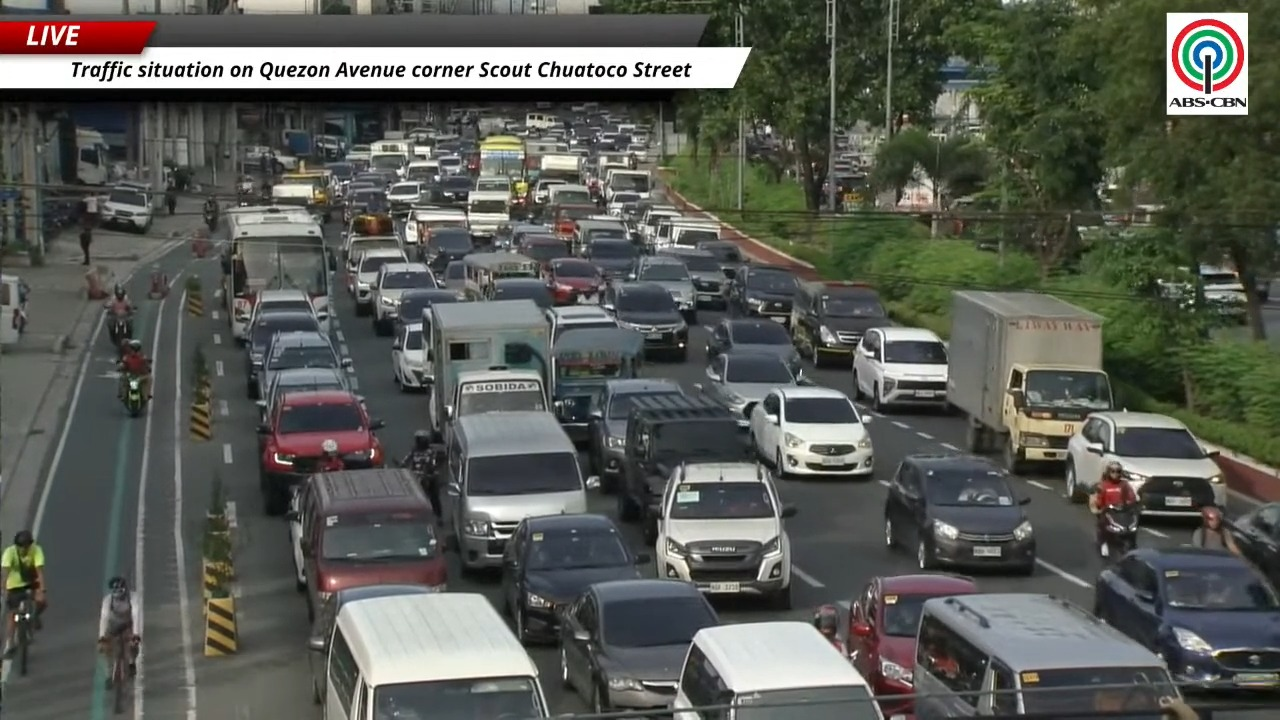bus: (222, 208, 335, 340), (479, 135, 526, 180)
car: (1094, 547, 1279, 691), (285, 468, 446, 620), (559, 579, 719, 711), (654, 462, 795, 609), (615, 395, 751, 543), (500, 514, 648, 642), (846, 573, 977, 716), (884, 454, 1035, 574), (1066, 411, 1226, 516), (258, 390, 384, 515), (308, 583, 437, 703), (748, 386, 873, 478), (588, 378, 684, 493), (791, 281, 890, 365), (694, 351, 803, 427), (852, 327, 948, 411), (601, 283, 688, 361), (245, 311, 321, 399), (256, 332, 351, 397), (255, 367, 350, 421), (706, 319, 800, 372), (372, 262, 436, 334), (628, 255, 696, 322), (348, 246, 407, 316), (727, 264, 797, 323), (1229, 502, 1279, 584), (658, 247, 725, 307), (340, 213, 400, 272), (248, 289, 329, 332), (345, 236, 401, 291), (544, 257, 604, 305), (392, 322, 433, 391), (397, 288, 460, 331), (546, 305, 617, 342), (99, 184, 153, 232), (419, 227, 473, 272), (582, 238, 638, 277), (488, 277, 554, 310), (429, 157, 471, 206), (696, 240, 747, 279), (343, 185, 388, 223), (517, 235, 570, 264), (386, 181, 424, 211), (438, 261, 465, 292), (606, 193, 640, 216), (473, 176, 511, 193)
motorcycle: (1098, 505, 1140, 563), (123, 375, 146, 416), (109, 313, 132, 353), (203, 207, 218, 230)
truck: (947, 290, 1113, 472), (428, 300, 551, 442), (75, 128, 110, 185)
